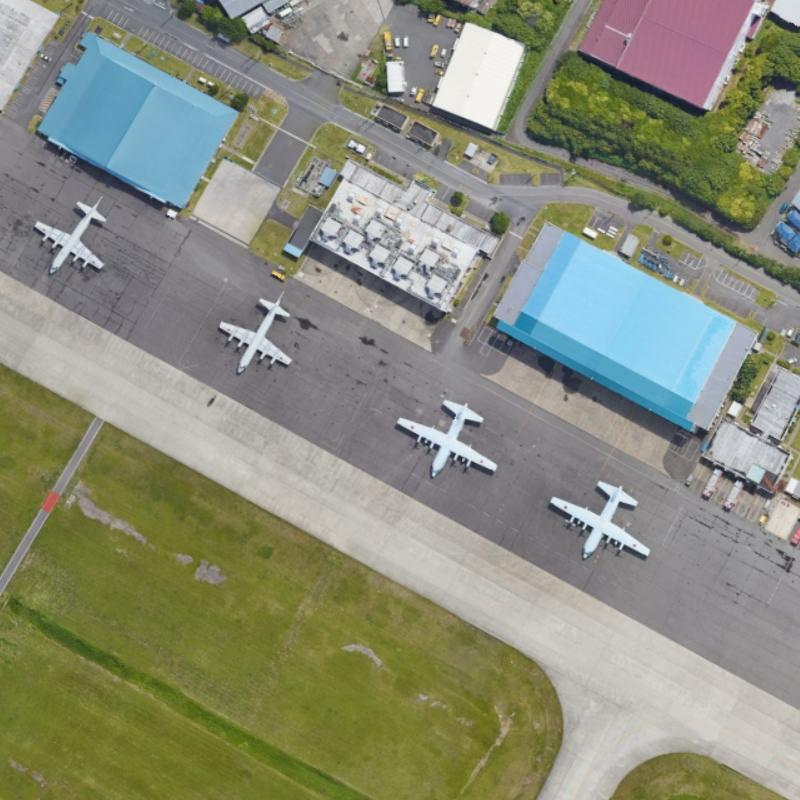A2: (383, 387, 504, 491), (539, 471, 662, 567)
A9: (20, 188, 120, 277), (209, 284, 301, 377)
